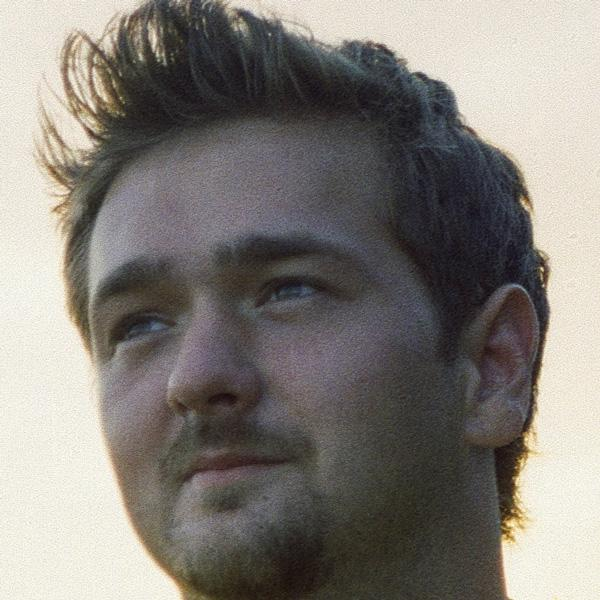Eyes: (98, 291, 189, 364), (246, 265, 342, 321)
